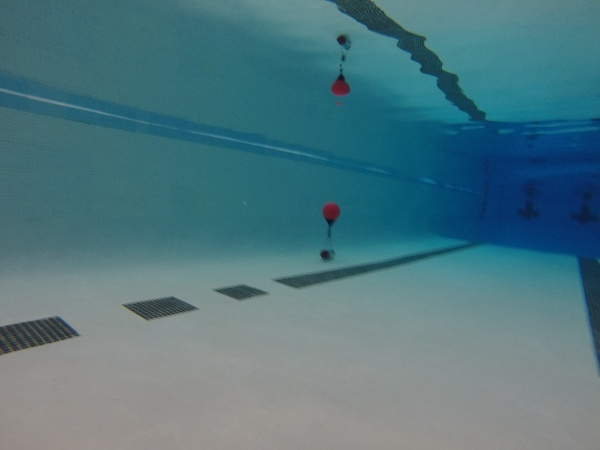buoy_red: (321, 202, 341, 229)
